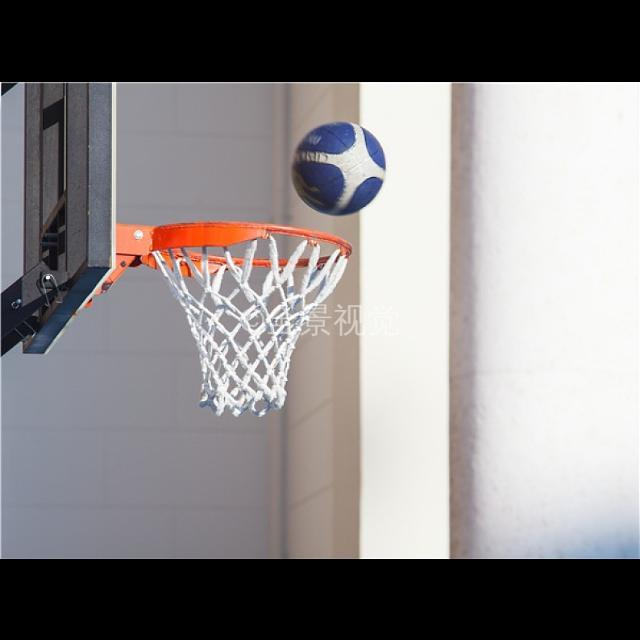basketball: (294, 122, 386, 215)
rim: (152, 222, 354, 416)
